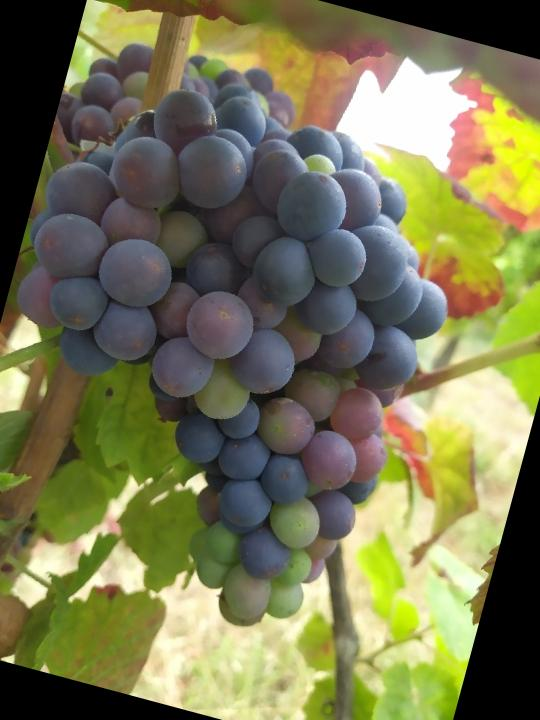grape: (0, 47, 494, 661)
